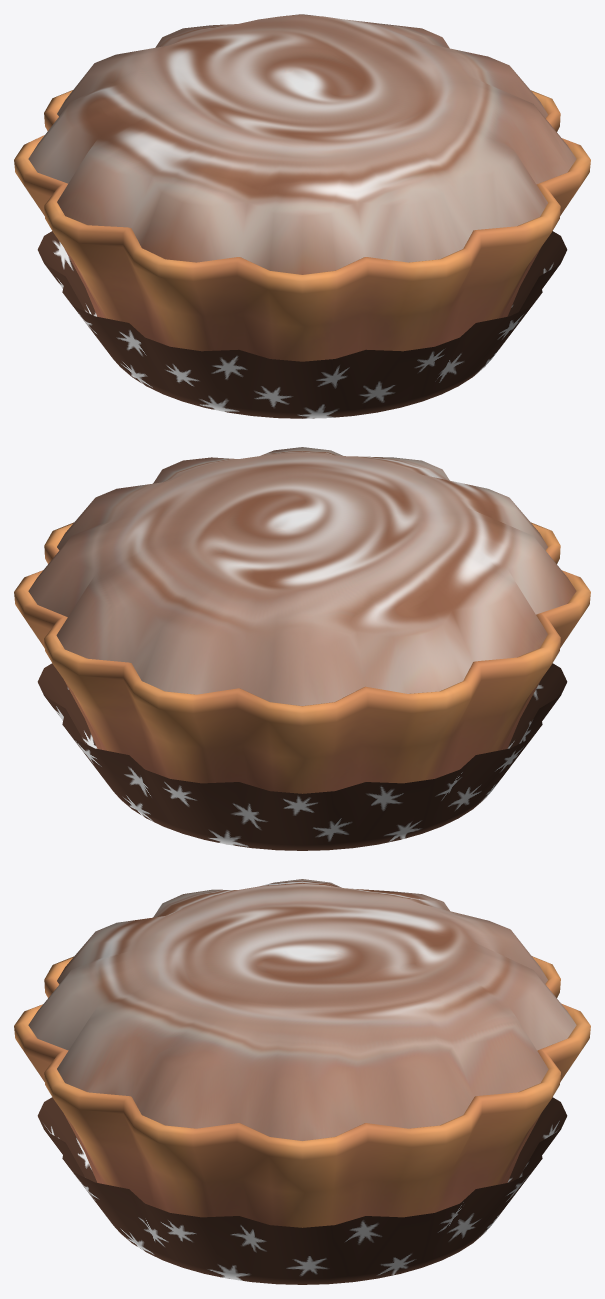
The model's file is cupcake_cream_4.fbx.
3 views of the same model, one above another, from view 1: azimuth 30°, elevation 25°; view 2: azimuth 150°, elevation 25°; view 3: azimuth 270°, elevation 25° (orthographic).
Visible parts, largest first — view 1: cake_basket_mus; view 2: cake_basket_mus; view 3: cake_basket_mus.
Boxes of the visible parts, x1,y1,x2,y2 form: cake_basket_mus: (14,14,590,418); cake_basket_mus: (14,447,590,850); cake_basket_mus: (14,879,590,1284).
Bounding box in the file's own units: 11.97 × 5.75 × 11.96.
